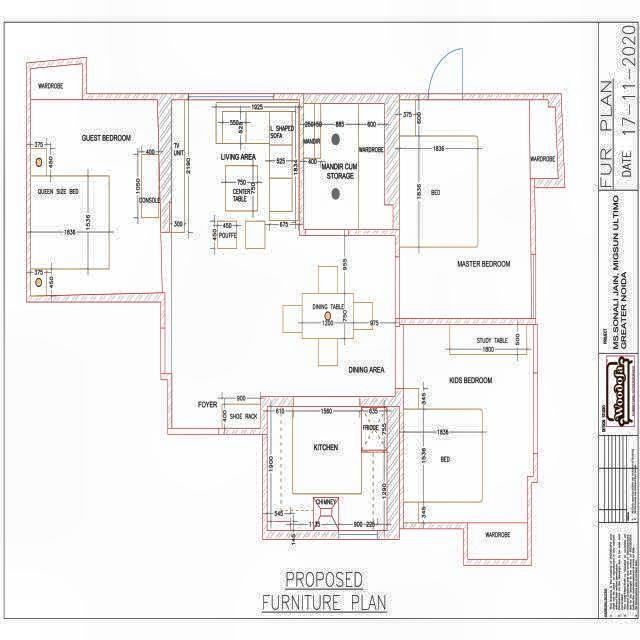room: (172, 99, 394, 428), (399, 99, 558, 319), (25, 62, 162, 297), (404, 325, 532, 560), (266, 406, 386, 529), (303, 103, 394, 229)
